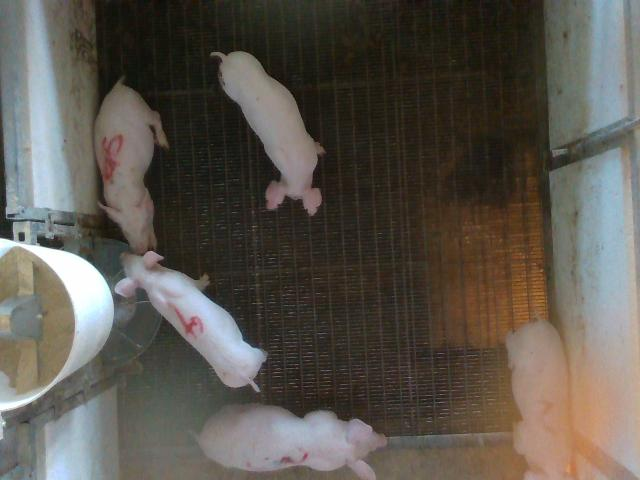pig-2: (506, 319, 572, 479)
pig-3: (196, 405, 386, 479)
pig-4: (115, 250, 266, 391)
pig-5: (95, 76, 169, 254)
